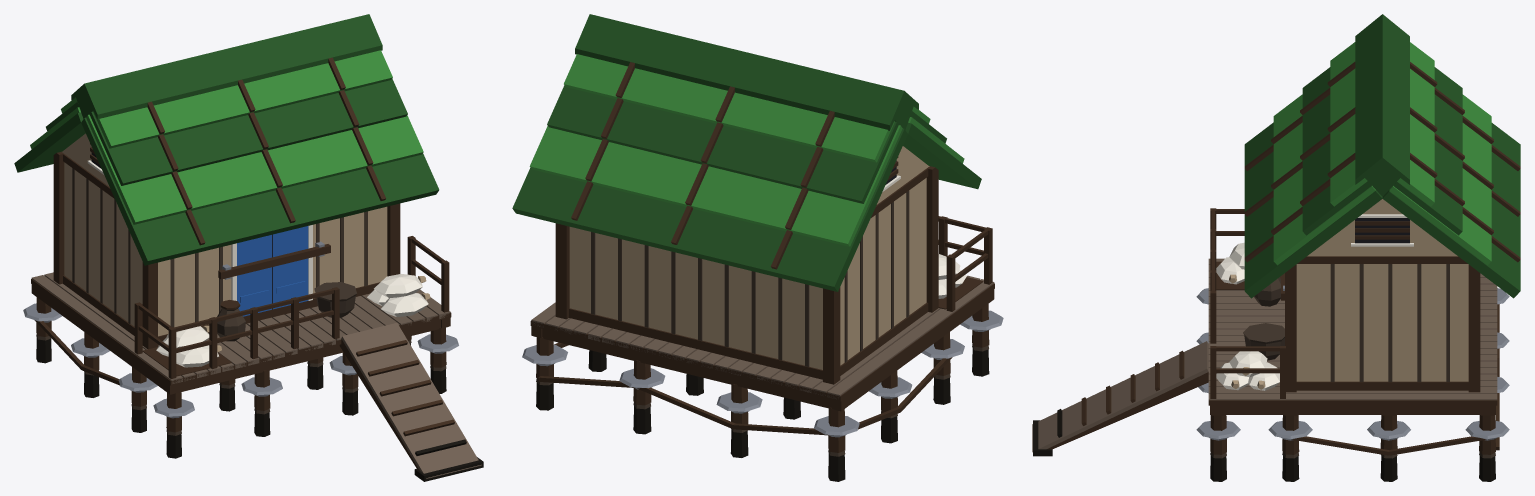
The model's file is rice_store.glb.
The picture shows the model from 3 angles, left to right: view 1: azimuth 30°, elevation 25°; view 2: azimuth 150°, elevation 25°; view 3: azimuth 270°, elevation 25°; orthographic projection. The views are drawn at different scales.
Parts seen in each view (by area): view 1: roof-palm-green-dark, roof-palm-green, walls-bright-boat-colours, ramp-muddy-brown-light, platform-muddy-brown-light, piles-dark-wood, railing-dark-wood, walls-dark-wood, door-sky-blue, piles-muddy-brown-dark, walls-muddy-brown, roof-dark-wood (+10 smaller); view 2: roof-palm-green-dark, walls-bright-boat-colours, roof-palm-green, piles-dark-wood, walls-dark-wood, platform-muddy-brown-light, walls-muddy-brown, piles-muddy-brown-dark, rat_guards-mid-grey, roof-dark-wood, platform-dark-wood, railing-dark-wood (+1 smaller); view 3: roof-palm-green-dark, walls-bright-boat-colours, roof-palm-green, platform-muddy-brown-light, piles-dark-wood, walls-dark-wood, roof-dark-wood, ramp-muddy-brown-light, rat_guards-mid-grey, walls-muddy-brown, railing-dark-wood, sacks-warm-white (+6 smaller).
Part boxes in pixels (x1,y1,x2,y2): roof-palm-green-dark: (14, 14, 439, 265); roof-palm-green: (30, 50, 423, 224); walls-bright-boat-colours: (62, 133, 387, 336); ramp-muddy-brown-light: (341, 323, 481, 479); platform-muddy-brown-light: (31, 272, 450, 383); piles-dark-wood: (31, 284, 450, 432); railing-dark-wood: (134, 236, 449, 378); walls-dark-wood: (53, 151, 400, 349); door-sky-blue: (237, 226, 308, 316); piles-muddy-brown-dark: (36, 337, 446, 458); walls-muddy-brown: (72, 168, 367, 326); roof-dark-wood: (147, 57, 386, 245); roof-palm-green-dark: (512, 14, 981, 291); walls-bright-boat-colours: (569, 146, 929, 369); roof-palm-green: (529, 54, 964, 246); piles-dark-wood: (531, 289, 994, 452); walls-dark-wood: (555, 166, 938, 384); platform-muddy-brown-light: (531, 275, 994, 399); walls-muddy-brown: (591, 190, 909, 366); piles-muddy-brown-dark: (536, 348, 989, 481); rat_guards-mid-grey: (522, 310, 1003, 437); roof-dark-wood: (571, 62, 834, 269); platform-dark-wood: (530, 283, 994, 401); railing-dark-wood: (938, 216, 992, 311); roof-palm-green-dark: (1244, 14, 1520, 298); walls-bright-boat-colours: (1296, 199, 1468, 381); roof-palm-green: (1273, 42, 1491, 265); platform-muddy-brown-light: (1208, 258, 1497, 400); piles-dark-wood: (1210, 304, 1499, 455); walls-dark-wood: (1285, 256, 1480, 392); roof-dark-wood: (1244, 62, 1520, 262); ramp-muddy-brown-light: (1032, 341, 1208, 452); rat_guards-mid-grey: (1196, 288, 1509, 440); walls-muddy-brown: (1330, 264, 1449, 381); railing-dark-wood: (1210, 208, 1285, 398); sacks-warm-white: (1216, 242, 1279, 390).
Size of the model in its own units: 5.48 by 5.49 by 7.44.
